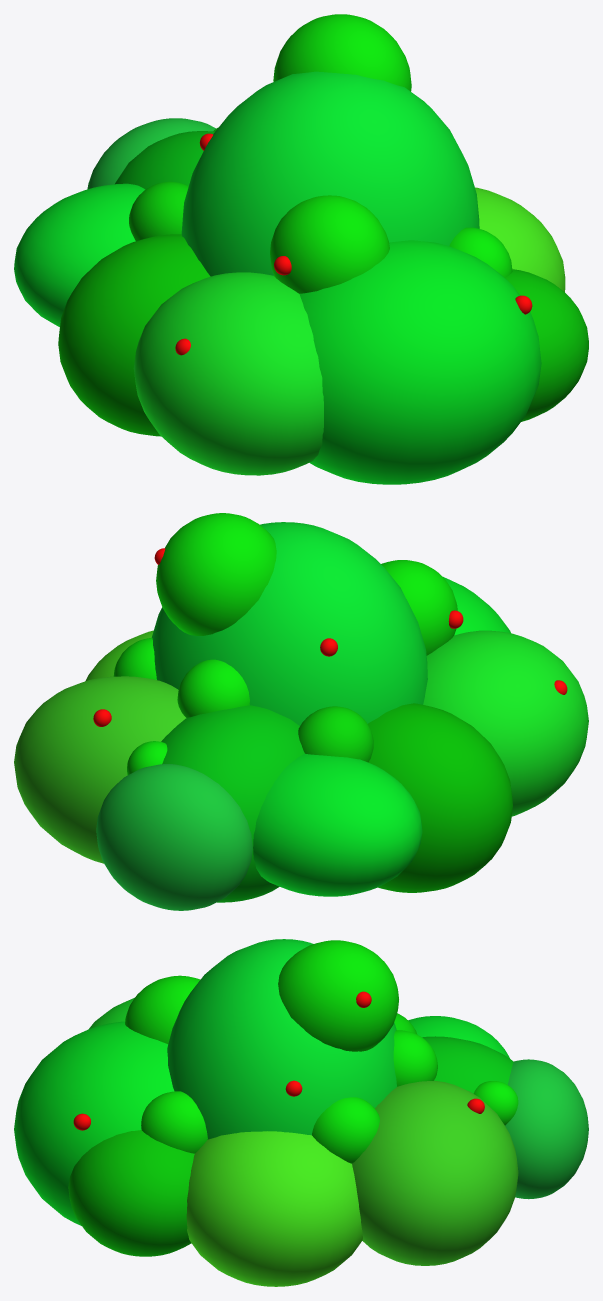
The model's file is Bush1.glb.
The picture shows the model from 3 angles, top to bottom: view 1: azimuth 30°, elevation 25°; view 2: azimuth 150°, elevation 25°; view 3: azimuth 270°, elevation 25°; orthographic projection. The views are drawn at different scales.
Visible parts, largest first — view 1: Sphere, Sphere.003, Sphere.007, Sphere.006, Sphere.004, Sphere.015, Sphere.016, Sphere.009, Sphere.008, Sphere.005, Sphere.001, Sphere.013 (+1 smaller); view 2: Sphere.003, Sphere.004, Sphere.007, Sphere.001, Sphere.006, Sphere.002, Sphere.016, Sphere.005, Sphere.015, Sphere.013, Sphere.012, Sphere (+3 smaller); view 3: Sphere.003, Sphere.002, Sphere.008, Sphere, Sphere.009, Sphere.016, Sphere.001, Sphere.005, Sphere.011, Sphere.010, Sphere.015, Sphere.012 (+3 smaller).
Boxes of the visible parts, x1,y1,x2,y2 form: Sphere: [299, 240, 541, 484]; Sphere.003: [181, 71, 479, 276]; Sphere.007: [133, 272, 323, 475]; Sphere.006: [58, 234, 210, 436]; Sphere.004: [14, 183, 145, 327]; Sphere.015: [270, 195, 389, 293]; Sphere.016: [273, 14, 411, 91]; Sphere.009: [505, 269, 588, 421]; Sphere.008: [475, 187, 565, 291]; Sphere.005: [115, 131, 214, 189]; Sphere.001: [87, 118, 215, 189]; Sphere.013: [129, 181, 188, 241]; Sphere.003: [152, 522, 427, 725]; Sphere.004: [253, 753, 422, 896]; Sphere.007: [423, 630, 588, 816]; Sphere.001: [96, 764, 252, 910]; Sphere.006: [368, 703, 512, 892]; Sphere.002: [14, 676, 186, 863]; Sphere.016: [156, 513, 276, 635]; Sphere.005: [161, 705, 304, 902]; Sphere.015: [381, 560, 457, 655]; Sphere.013: [298, 706, 373, 762]; Sphere.012: [177, 659, 249, 717]; Sphere: [443, 577, 510, 635]; Sphere.003: [167, 939, 396, 1139]; Sphere.002: [352, 1080, 518, 1265]; Sphere.008: [186, 1131, 362, 1286]; Sphere: [14, 1021, 174, 1225]; Sphere.009: [68, 1130, 194, 1256]; Sphere.016: [278, 940, 398, 1051]; Sphere.001: [505, 1059, 588, 1199]; Sphere.005: [422, 1036, 513, 1093]; Sphere.011: [312, 1097, 379, 1163]; Sphere.010: [141, 1091, 207, 1153]; Sphere.015: [125, 975, 200, 1043]; Sphere.012: [393, 1030, 437, 1086].
Bounding box in the file's own units: 6.3 × 4.59 × 7.83.
